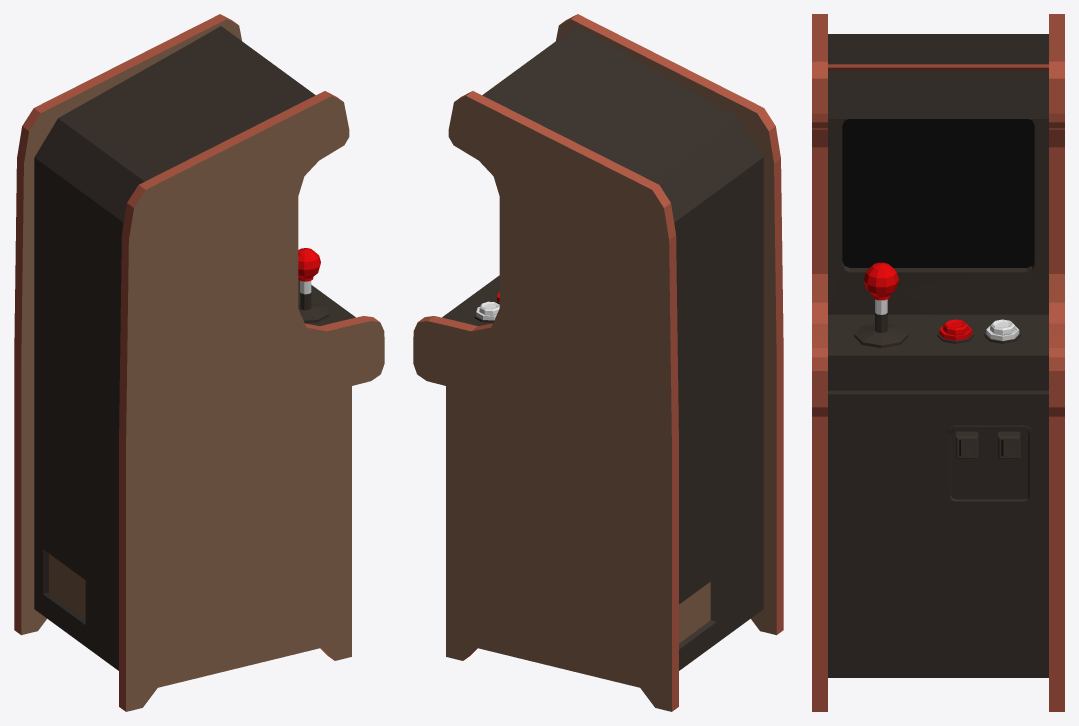
Rendered from Arcade.glb.
The picture shows the model from 3 angles, left to right: view 1: azimuth 30°, elevation 25°; view 2: azimuth 150°, elevation 25°; view 3: azimuth 270°, elevation 25°; orthographic projection. The views are drawn at different scales.
Parts seen in each view (by area): view 1: ArcadeMachine_Cube.002; view 2: ArcadeMachine_Cube.002; view 3: ArcadeMachine_Cube.002.
Part boxes in pixels (box(x1,y1,x2,y2)): ArcadeMachine_Cube.002: box(14, 14, 384, 711); ArcadeMachine_Cube.002: box(413, 14, 783, 711); ArcadeMachine_Cube.002: box(812, 14, 1064, 711).
Bounding box in the file's own units: 1.24 × 2.59 × 0.927.
